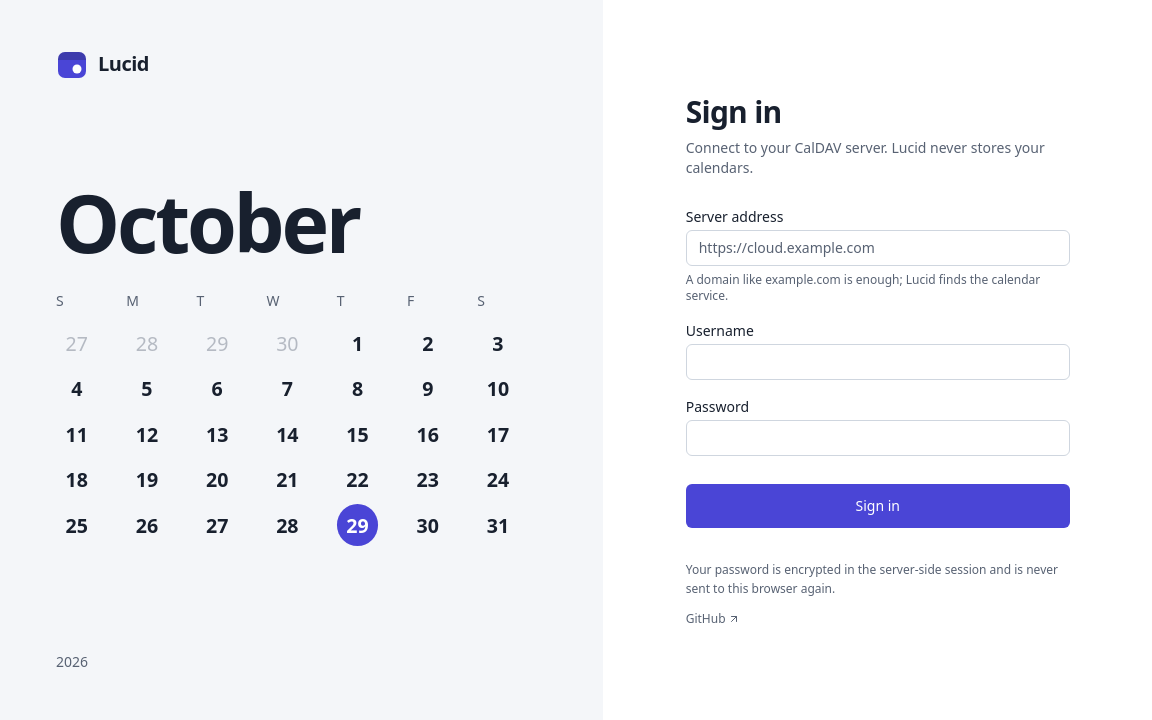
LoginPage › shows the API error for rejected credentials and clears the password
The width and height of the screenshot is (1152, 720).
Step 1. Type "example.com" into the field labelled "Server address" → (878, 248), box [686,230,1070,266]
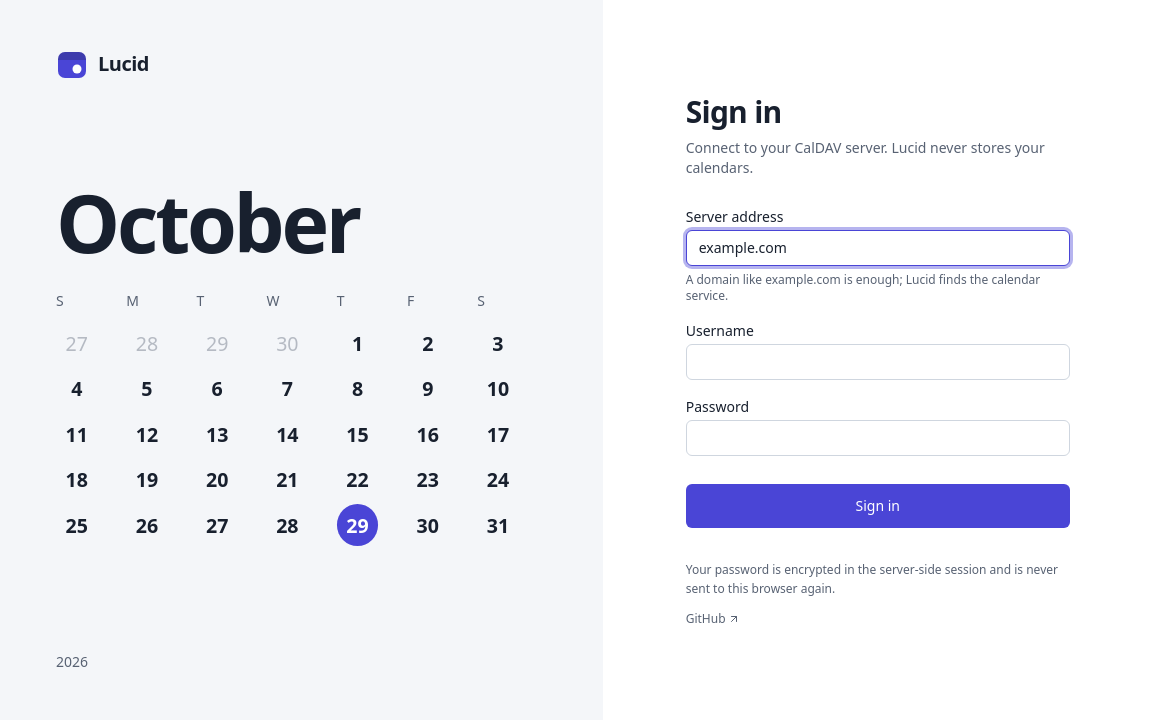
Step 2. Type "tim" into the field labelled "Username" → (878, 362), box [686,344,1070,380]
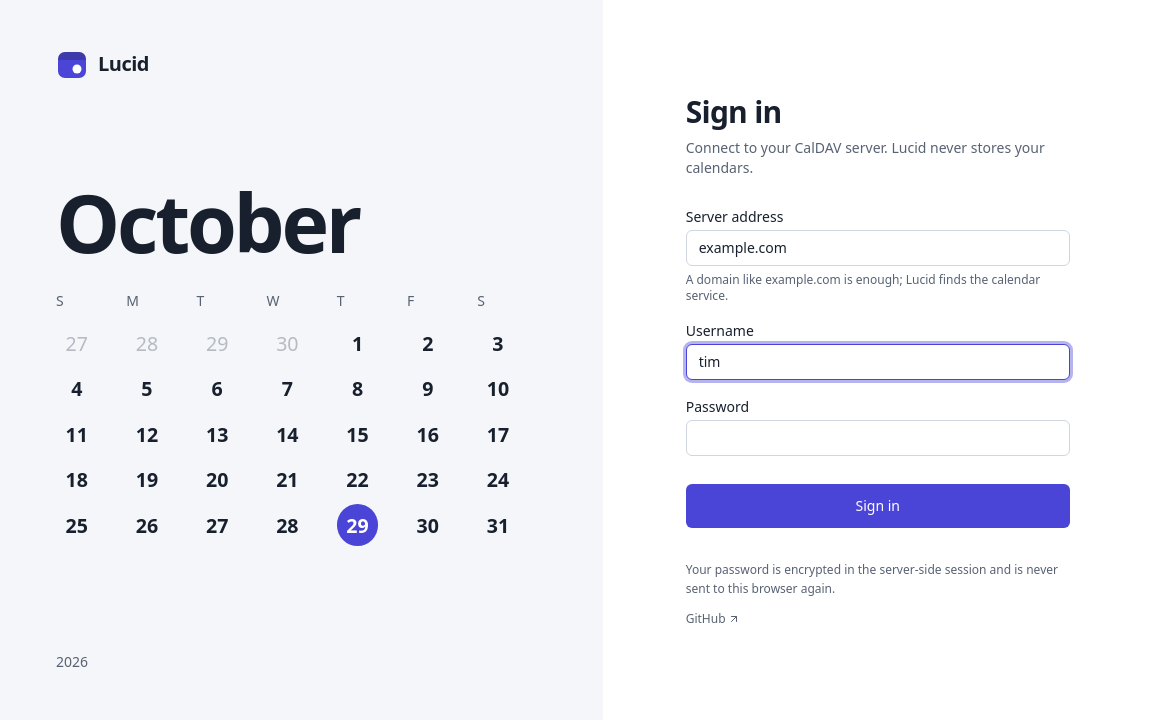
Step 3. Type "wrong" into the password field labelled "Password" → (878, 438), box [686,420,1070,456]
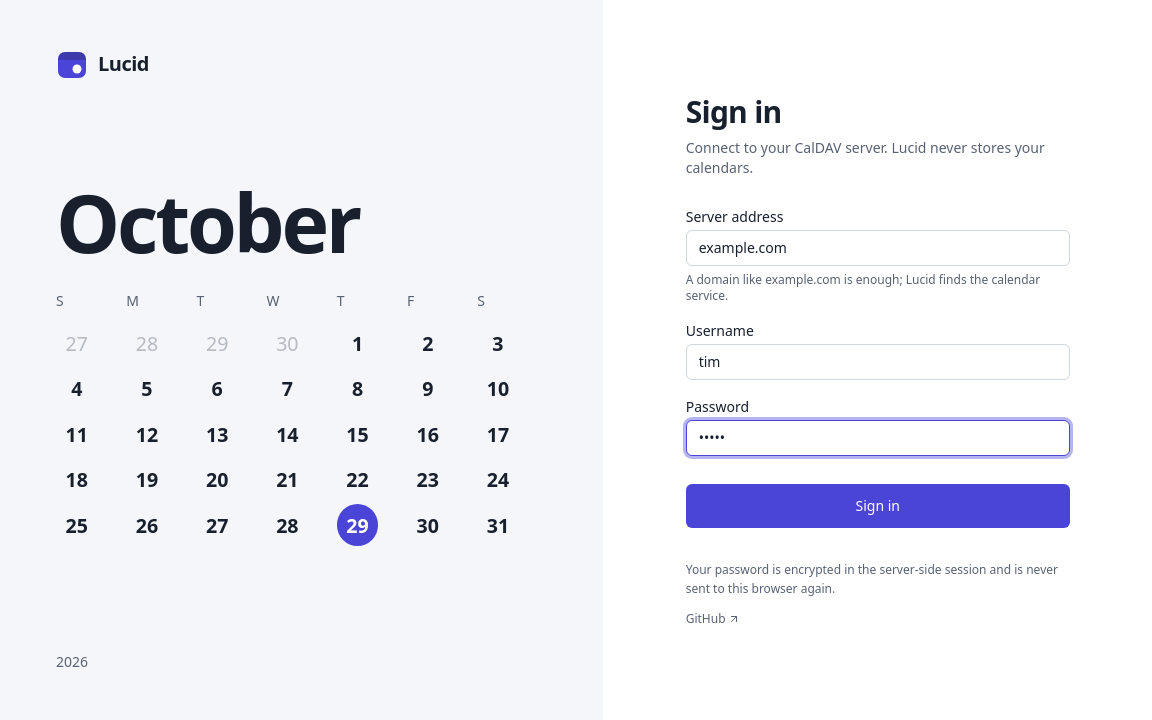
Step 4. Click the button "Sign in" → (878, 506), box [686,484,1070,528]
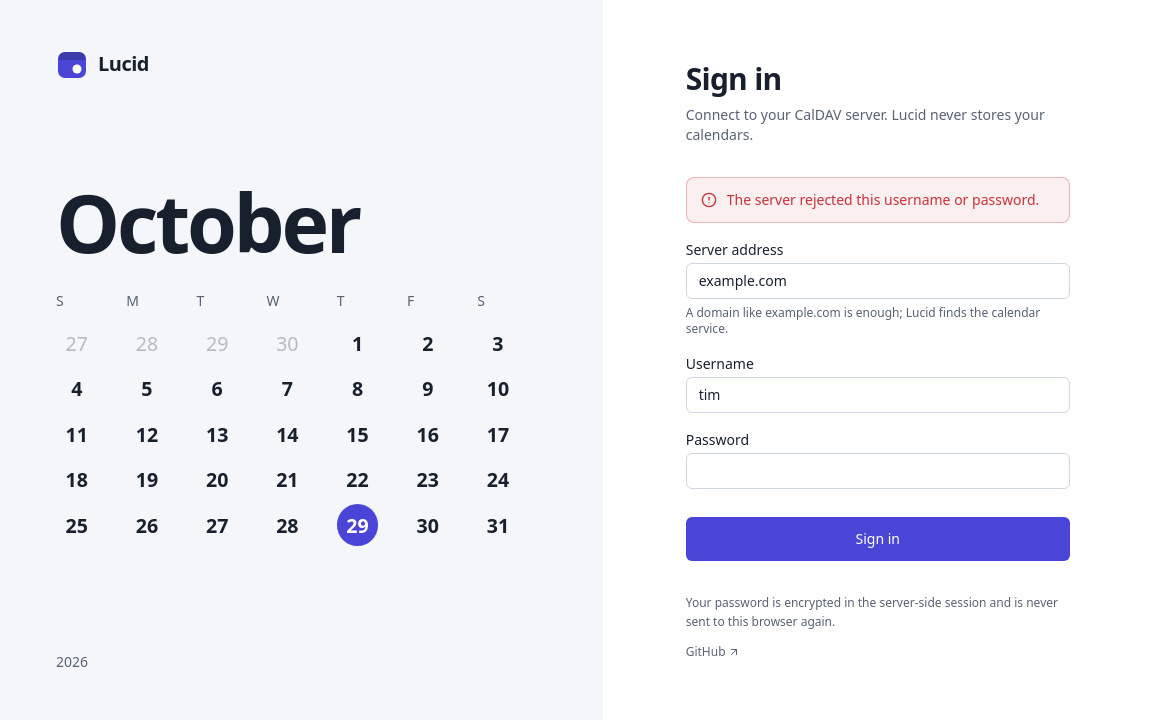
Expected: the message reads "The server rejected this username or password.", [727,190,1039,208]
Expected: the password field labelled "Password" is empty, [686,452,1070,488]
